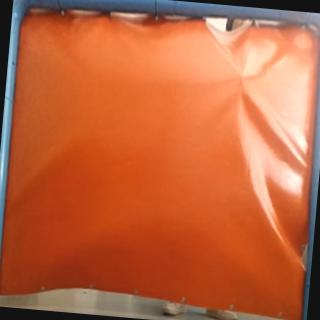Hit-hRxx: (232, 72, 252, 95)
